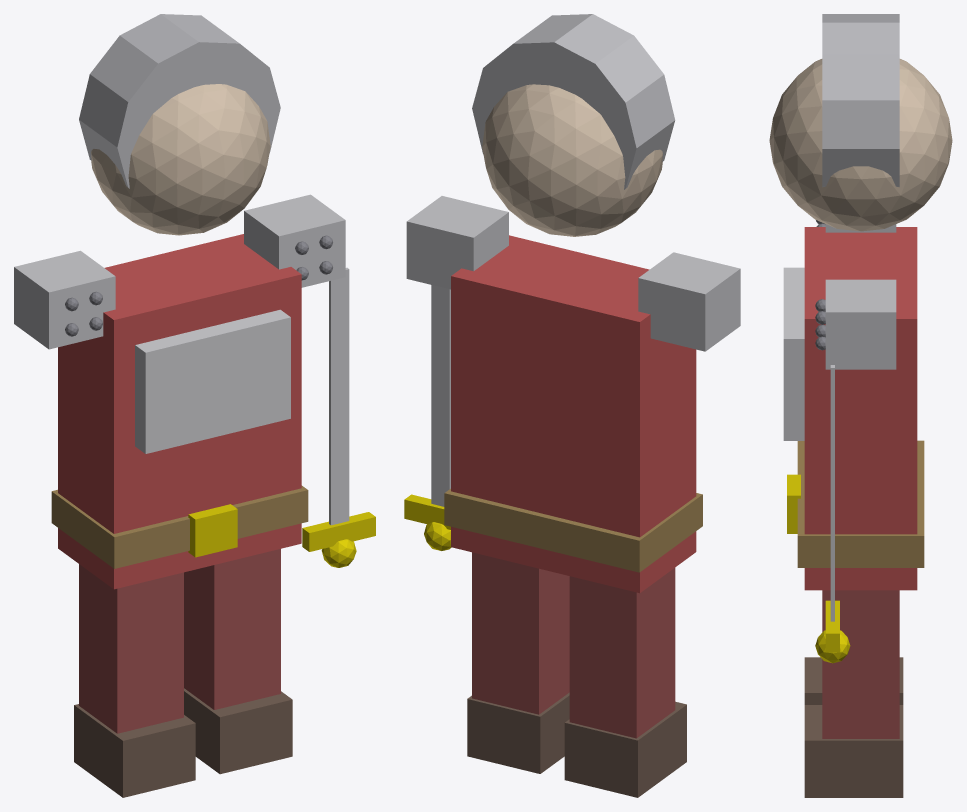
Rendered from warrior_m_handcraft.glb.
3 renders of one model, left to right at view 1: azimuth 30°, elevation 25°; view 2: azimuth 150°, elevation 25°; view 3: azimuth 270°, elevation 25°, orthographic.
Visible parts, largest first — view 1: geometry_0; view 2: geometry_0; view 3: geometry_0.
Part boxes in pixels (x1=…): geometry_0: x1=14, y1=14, x2=375, y2=797; geometry_0: x1=404, y1=14, x2=740, y2=797; geometry_0: x1=769, y1=14, x2=952, y2=797.
Size of the model in its own units: 1.08 by 2.3 by 0.52.
